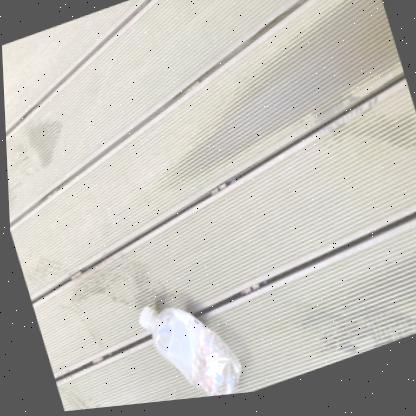Plastic: (136, 310, 237, 401)
